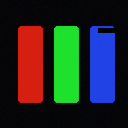3 line_h: (98, 28, 116, 32)
